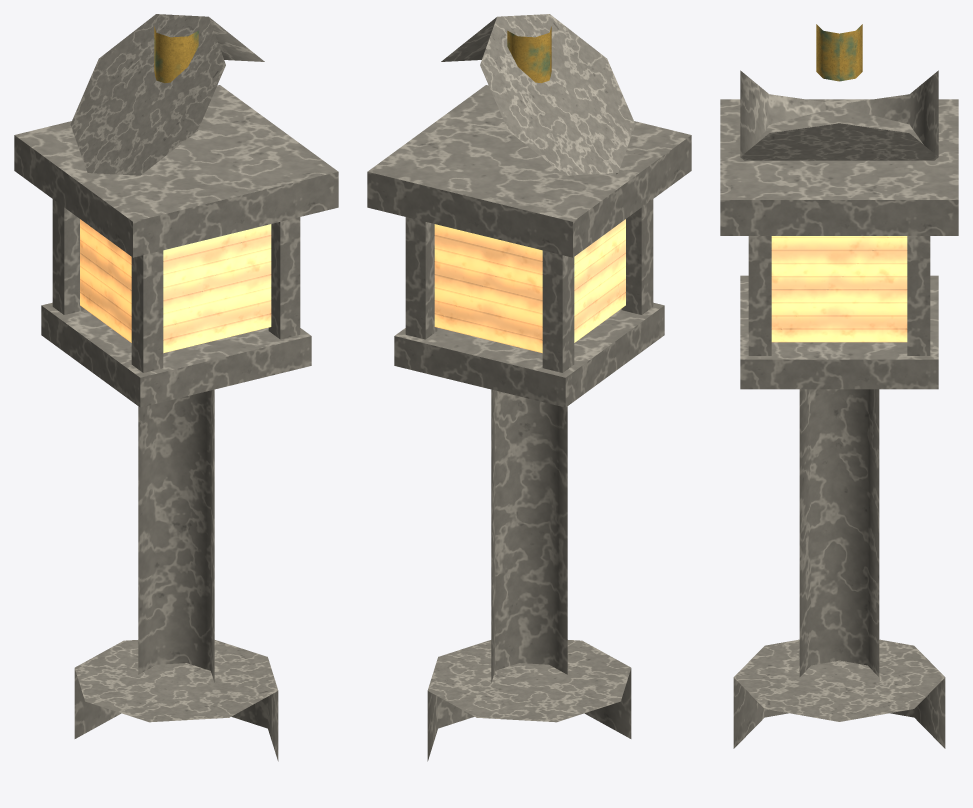
The model's file is stone_lantern.glb.
The picture shows the model from 3 angles, left to right: view 1: azimuth 30°, elevation 25°; view 2: azimuth 150°, elevation 25°; view 3: azimuth 270°, elevation 25°; orthographic projection.
Visible parts, largest first — view 1: StoneLantern; view 2: StoneLantern; view 3: StoneLantern.
Boxes of the visible parts, left/top/right/bottom form: StoneLantern: left=14, top=14, right=338, bottom=761; StoneLantern: left=367, top=14, right=691, bottom=761; StoneLantern: left=720, top=24, right=958, bottom=748.
Size of the model in its own units: 0.72 by 2.43 by 0.72.
3 materials, 3 textured.
